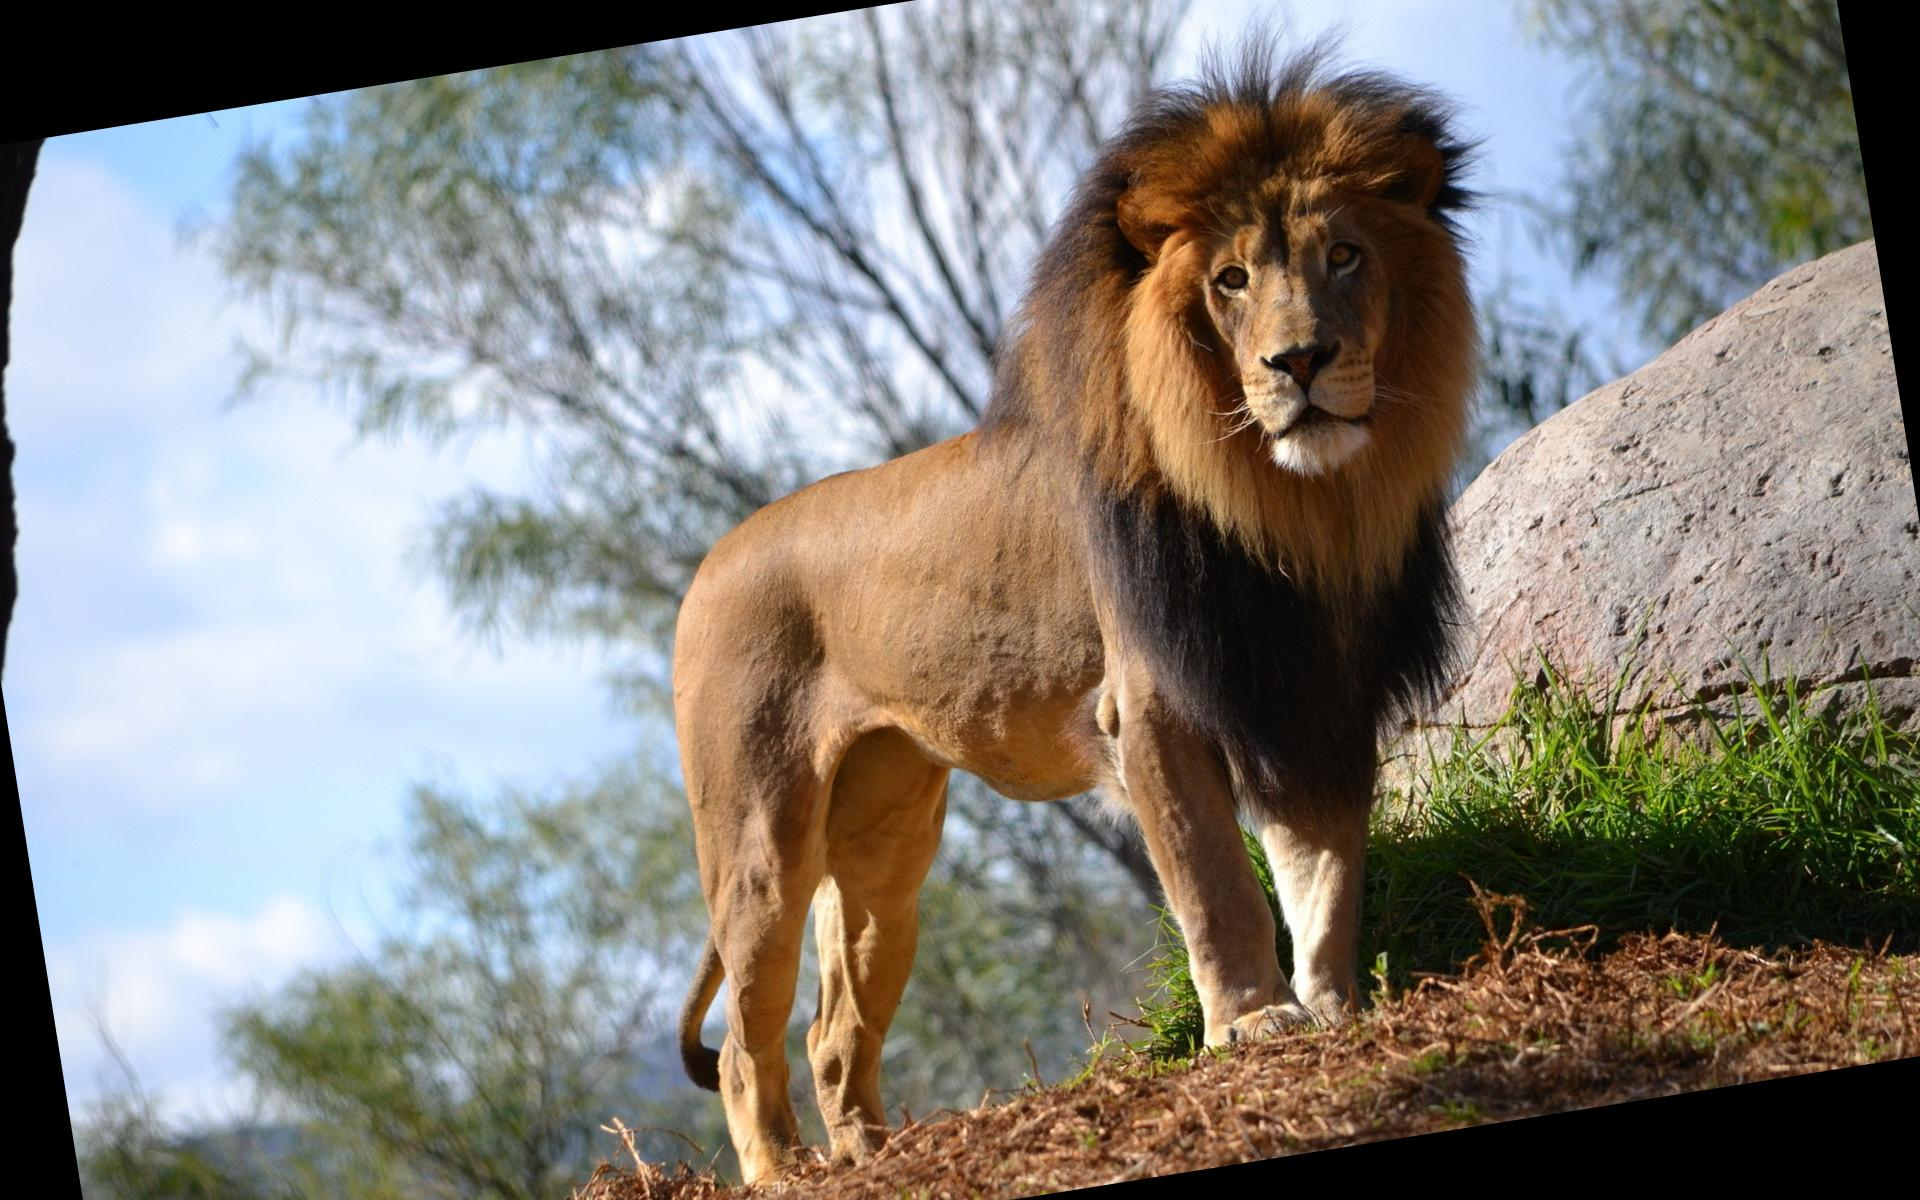lions: (341, 0, 1840, 1200)
